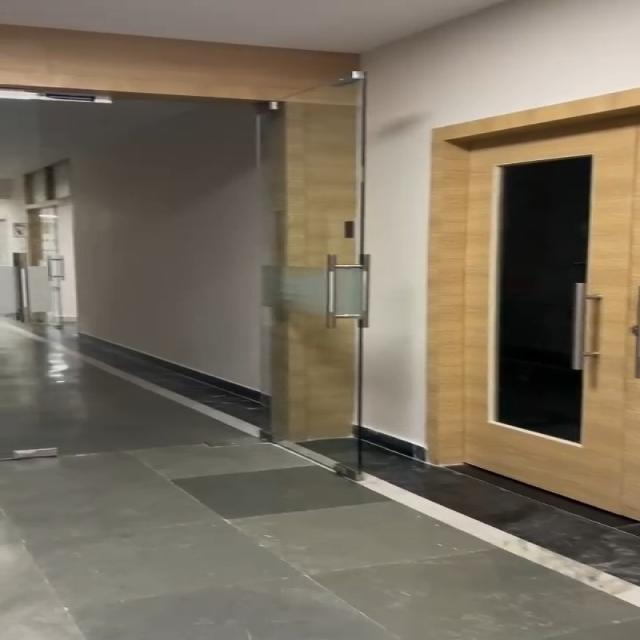door: (0, 20, 366, 440), (435, 138, 640, 472)
floor: (27, 463, 640, 640)
